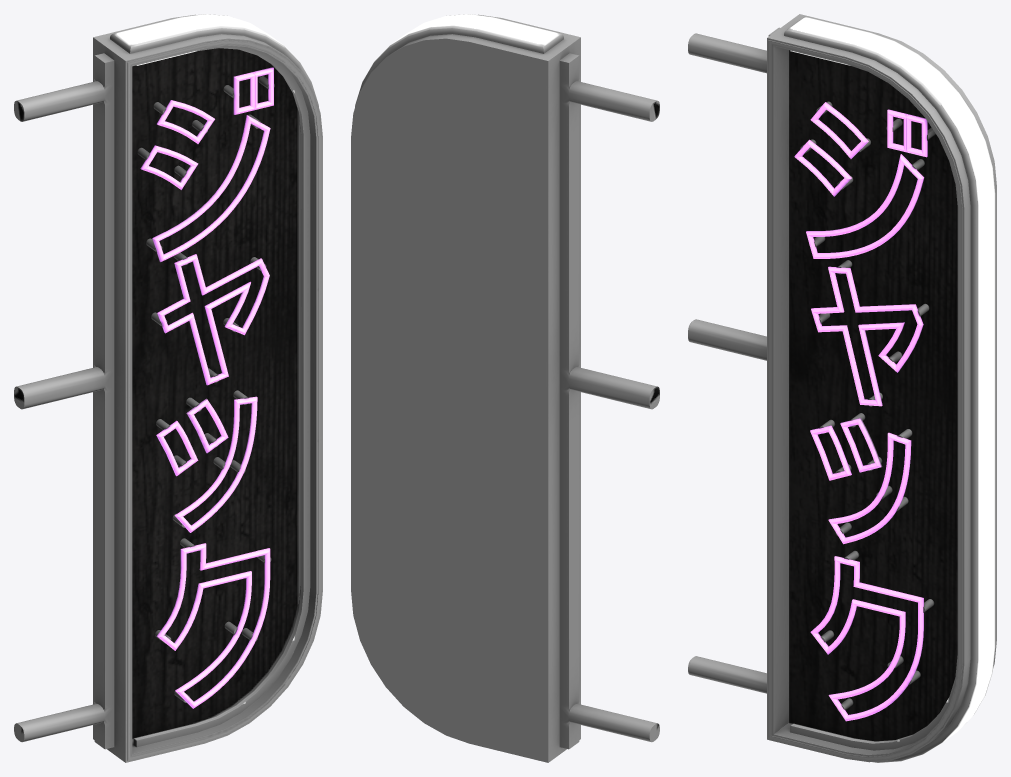
File: japanese_neon_street_sign.glb
3 renders of one model, left to right at view 1: azimuth 30°, elevation 25°; view 2: azimuth 150°, elevation 25°; view 3: azimuth 330°, elevation 25°, orthographic.
Parts seen in each view (by area): view 1: Object_2; view 2: Object_2; view 3: Object_2.
Part boxes in pixels (x1=…): Object_2: x1=14, y1=14, x2=322, y2=762; Object_2: x1=351, y1=14, x2=659, y2=762; Object_2: x1=688, y1=14, x2=996, y2=762.
Size of the model in its own units: 0.5022 by 1.17 by 0.0975.
1 material, 1 textured.
